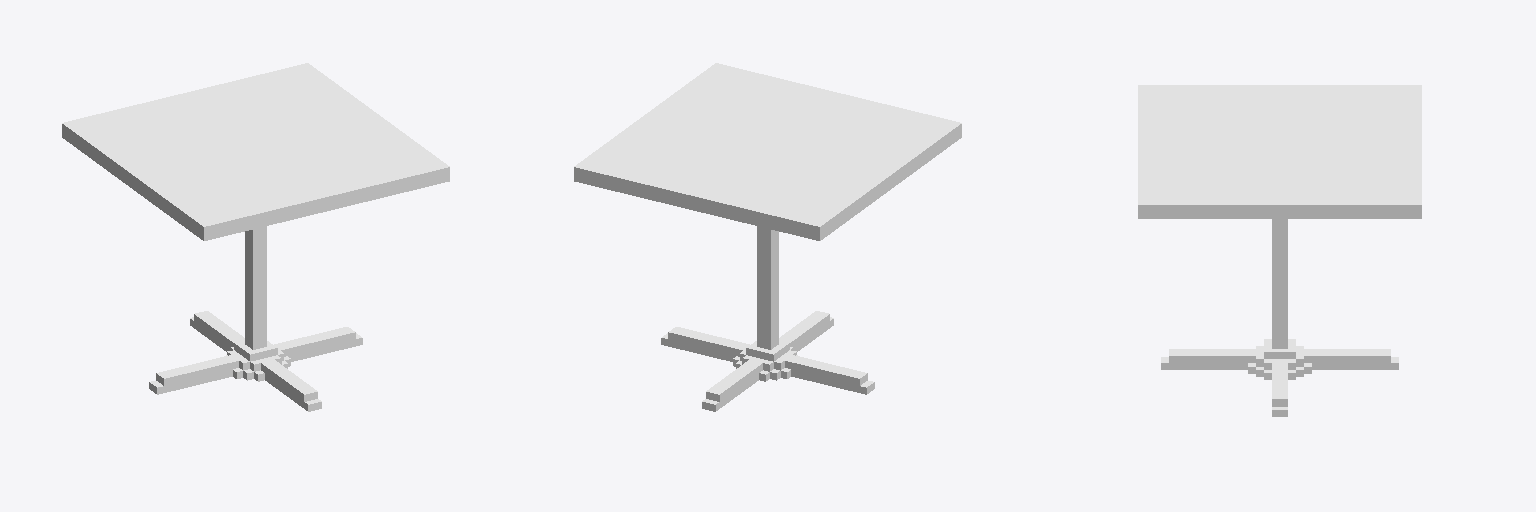
The model's file is square-table.obj.
3 views of the same model, side by side, from view 1: azimuth 30°, elevation 25°; view 2: azimuth 150°, elevation 25°; view 3: azimuth 270°, elevation 25° (orthographic).
Visible parts, largest first — view 1: object 1; view 2: object 1; view 3: object 1.
Boxes of the visible parts, x1,y1,x2,y2 form: object 1: [62, 63, 449, 411]; object 1: [574, 63, 961, 411]; object 1: [1138, 85, 1421, 416].
Size of the model in its own units: 3.6 by 3.1 by 3.6.